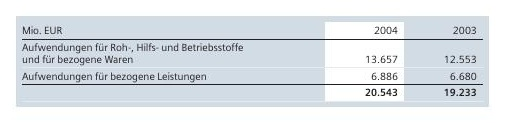table: (0, 0, 505, 123)
